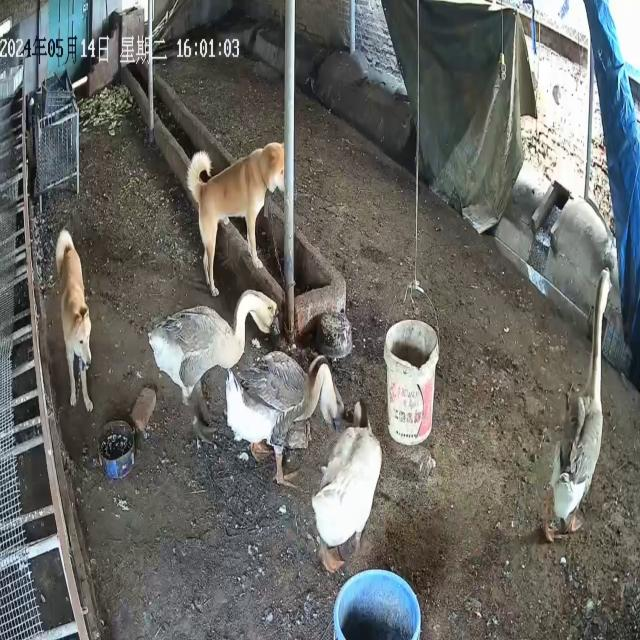dog: (187, 142, 286, 299), (56, 229, 95, 414)
